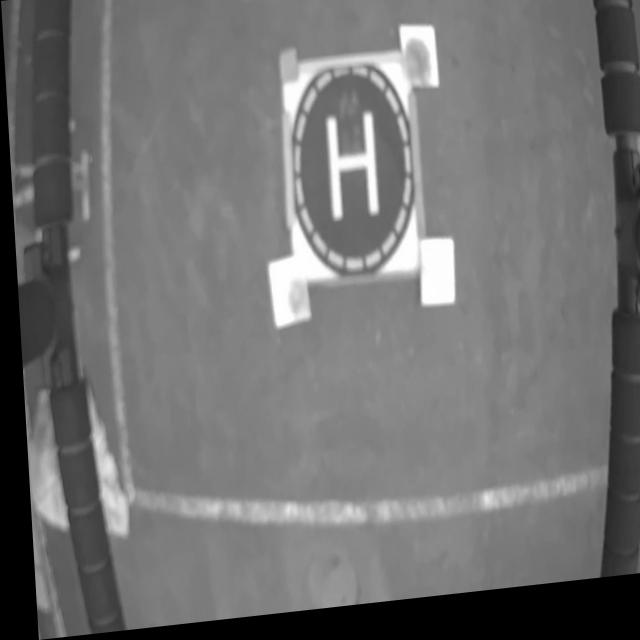Helipad: (323, 122, 375, 224)
